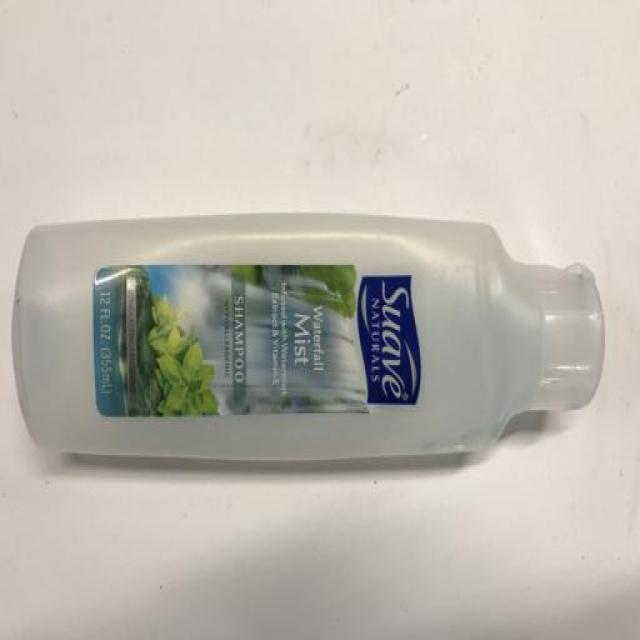plastic_bottle: (14, 227, 603, 487)
